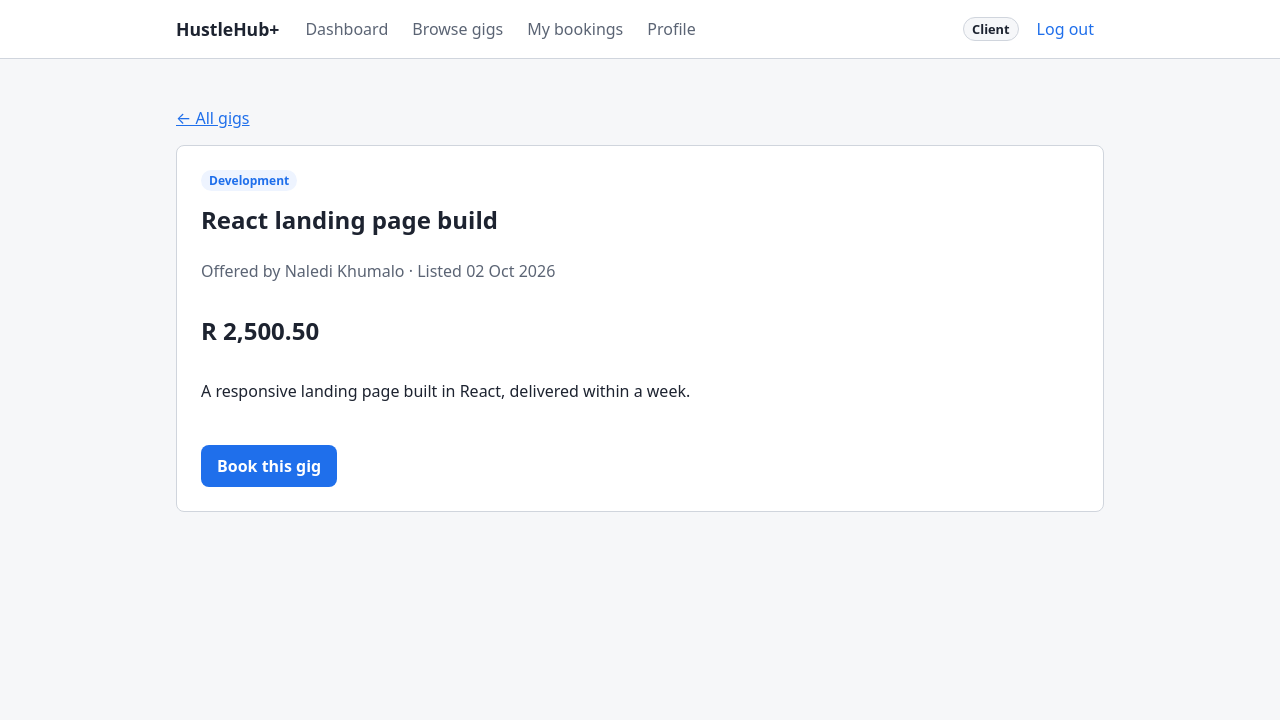
Scenario: GigDetailPage › a client can book a gig, which records a transaction
This screenshot has width=1280, height=720.
Click the button "Book this gig" at coordinates (269, 466), box x1=201 y1=445 x2=337 y2=487
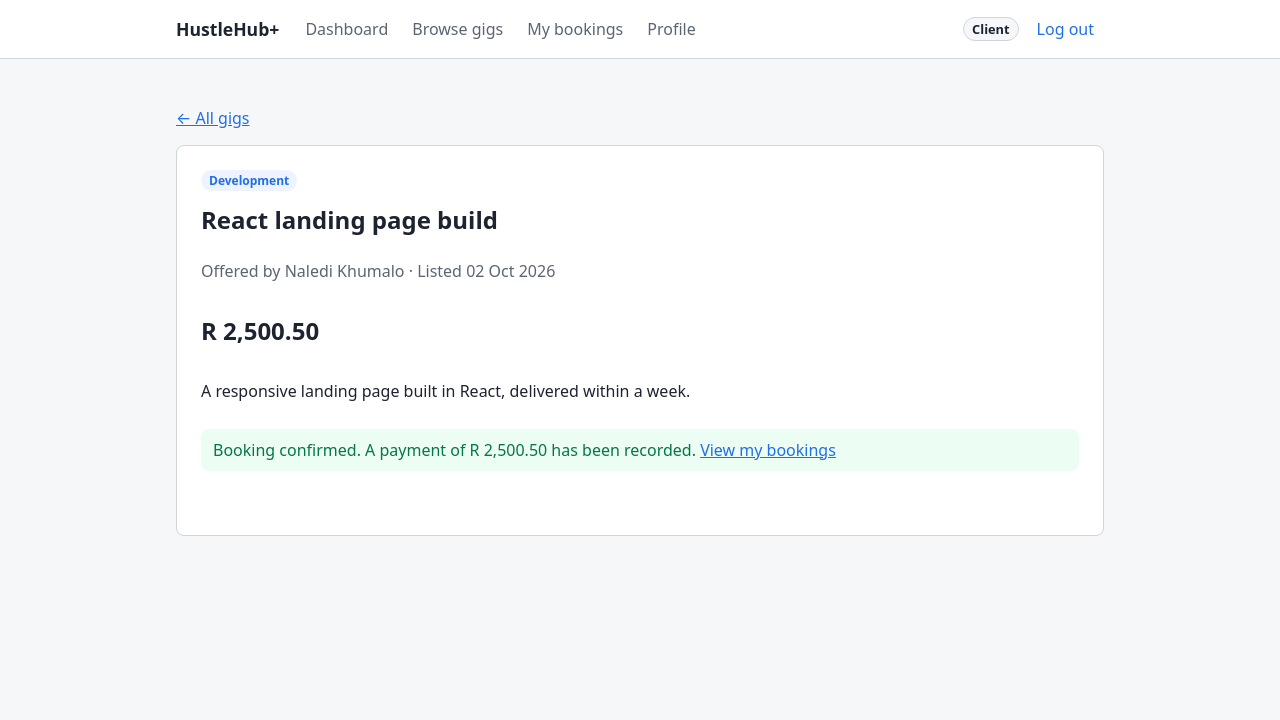
Expected: the button "Book this gig" is gone
